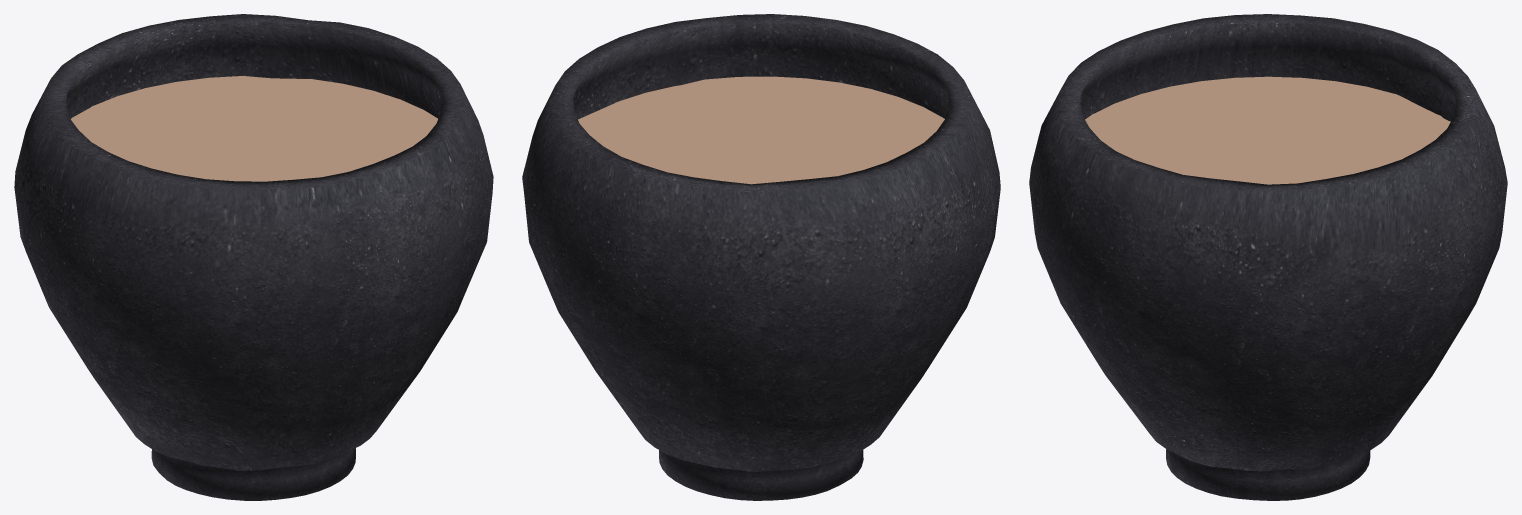
Rendered from Cauldron.fbx.
3 views of the same model, side by side, from view 1: azimuth 30°, elevation 25°; view 2: azimuth 150°, elevation 25°; view 3: azimuth 270°, elevation 25° (orthographic).
Parts seen in each view (by area): view 1: Cauldon, Potion; view 2: Cauldon, Potion; view 3: Cauldon, Potion.
Part boxes in pixels (x1,y1,x2,y2): Cauldon: (14,14,493,500); Potion: (71,76,437,181); Cauldon: (522,14,1000,500); Potion: (578,76,944,184); Cauldon: (1029,14,1507,500); Potion: (1085,76,1450,184).
Bounding box in the file's own units: 111 × 91.72 × 112.
